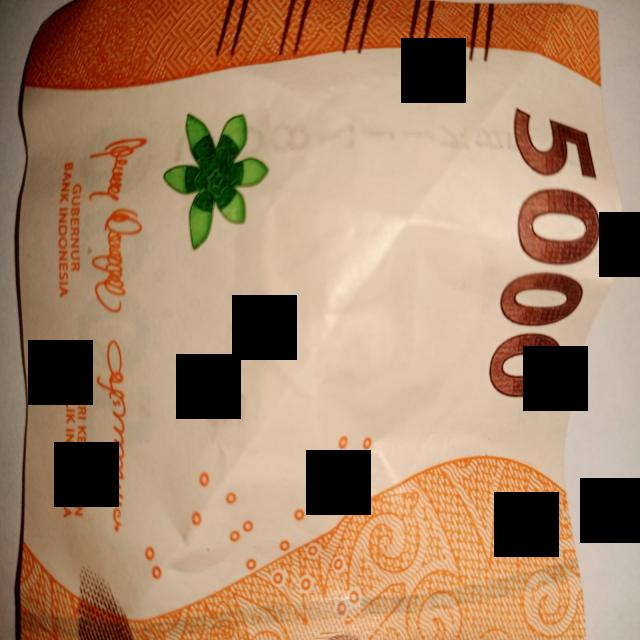lima ribu rupiah: (14, 0, 601, 640)
